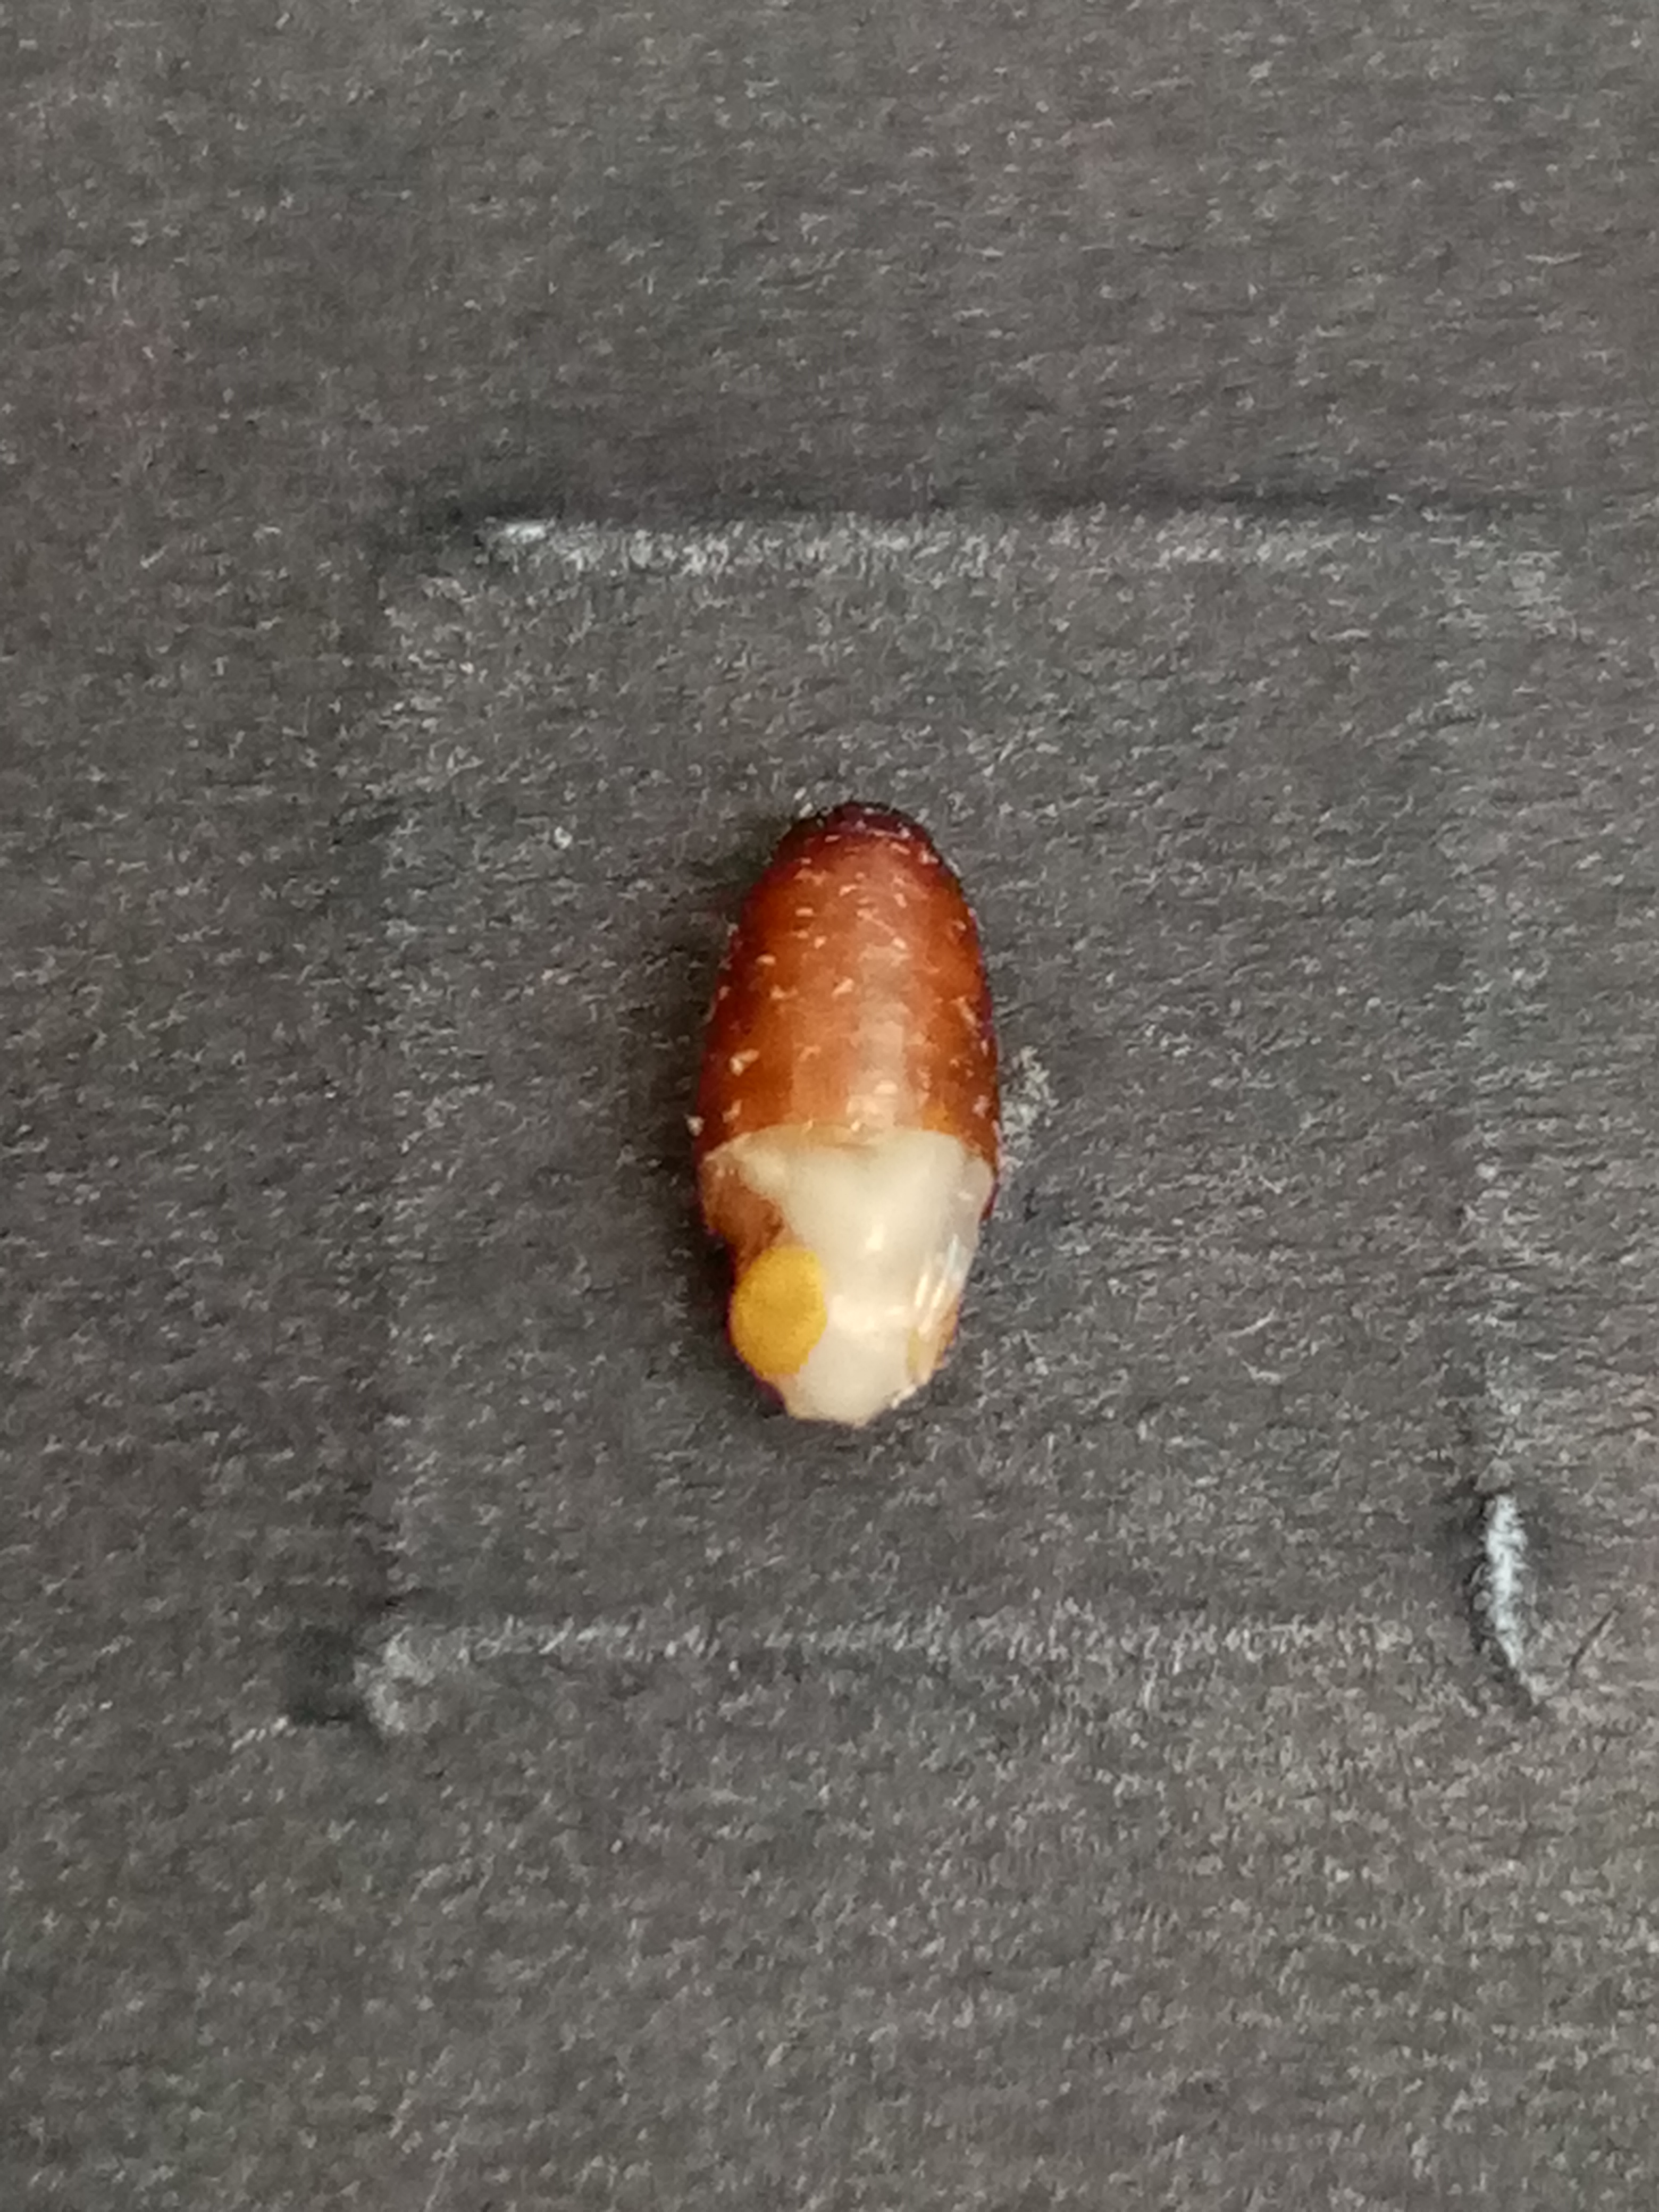pupa: (732, 1240, 962, 1437)
